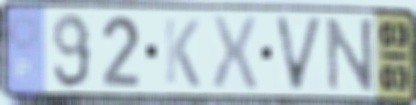2: (101, 13, 146, 90)
9: (50, 11, 94, 91)
K: (162, 15, 202, 90)
N: (324, 16, 376, 94)
V: (272, 14, 327, 95)
X: (209, 12, 261, 93)
